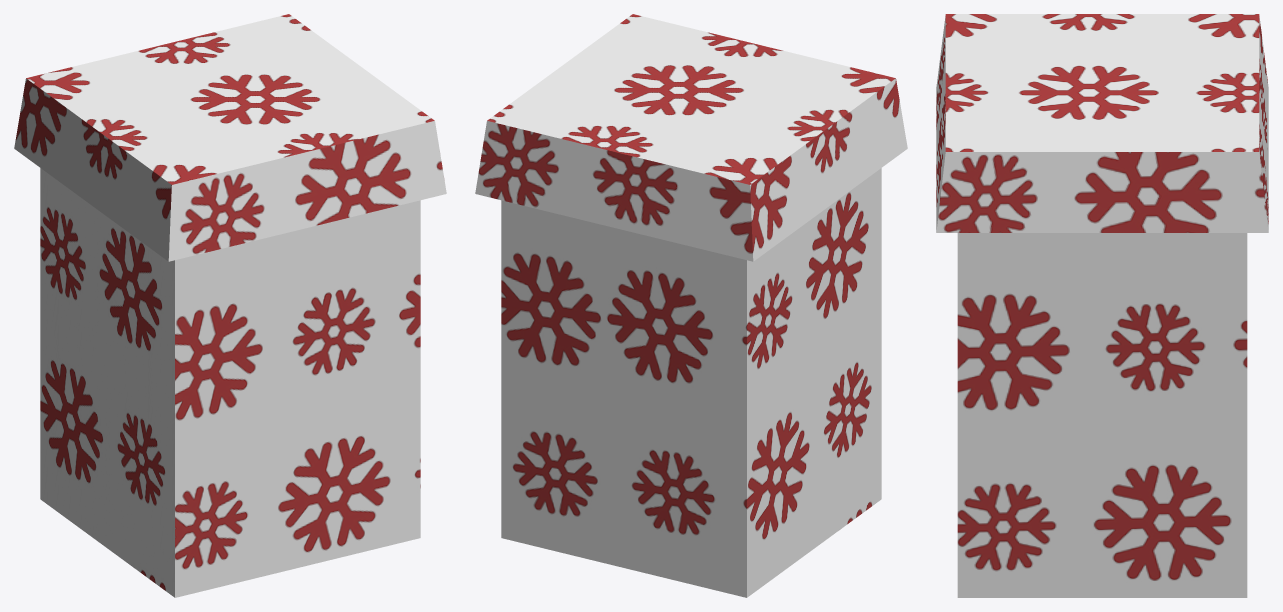
Rendered from M_Gift_10.FBX.
3 views of the same model, side by side, from view 1: azimuth 30°, elevation 25°; view 2: azimuth 150°, elevation 25°; view 3: azimuth 270°, elevation 25° (orthographic). The views are drawn at different scales.
Visible parts, largest first — view 1: Object004; view 2: Object004; view 3: Object004.
Part boxes in pixels (x1=…): Object004: x1=14, y1=14, x2=446, y2=597; Object004: x1=475, y1=14, x2=907, y2=597; Object004: x1=936, y1=14, x2=1268, y2=597.
Size of the model in its own units: 50.39 by 72.59 by 48.49.
